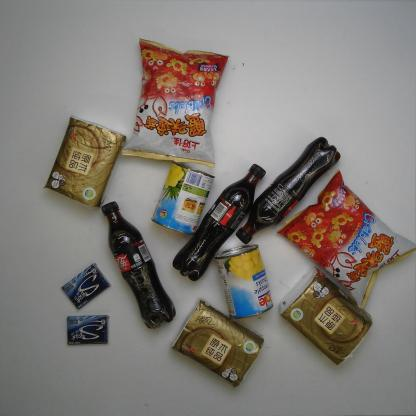Canned Food: (151, 161, 215, 237), (215, 244, 274, 321)
Drink: (235, 137, 341, 244), (172, 164, 266, 282), (102, 200, 177, 328)
Gum: (60, 262, 110, 310), (66, 313, 110, 345)
Puffed Food: (276, 169, 414, 308), (121, 35, 229, 169)
Tissue: (278, 266, 373, 367), (172, 299, 265, 386), (42, 115, 127, 209)
